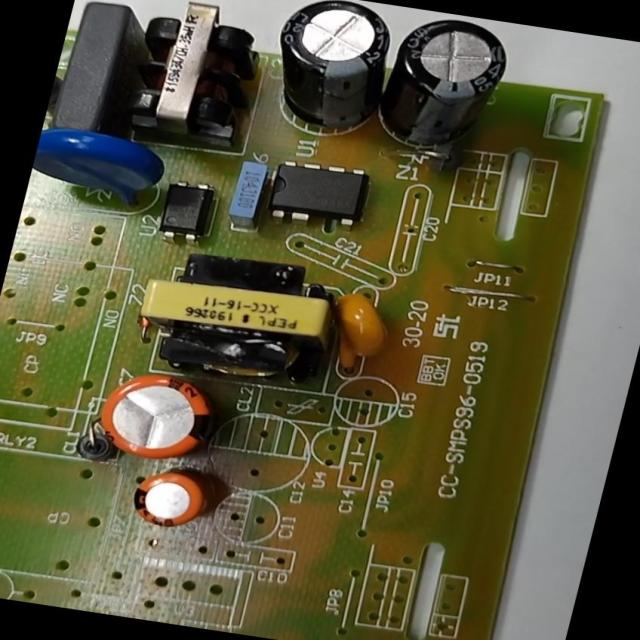Cap1: (82, 366, 231, 466)
Cap2: (108, 460, 232, 542)
Cap3: (258, 0, 402, 139)
Cap4: (368, 7, 517, 159)
MOSFET: (250, 143, 382, 235)
Mov: (28, 110, 186, 209)
Transformer: (120, 240, 342, 386), (104, 0, 275, 144)
